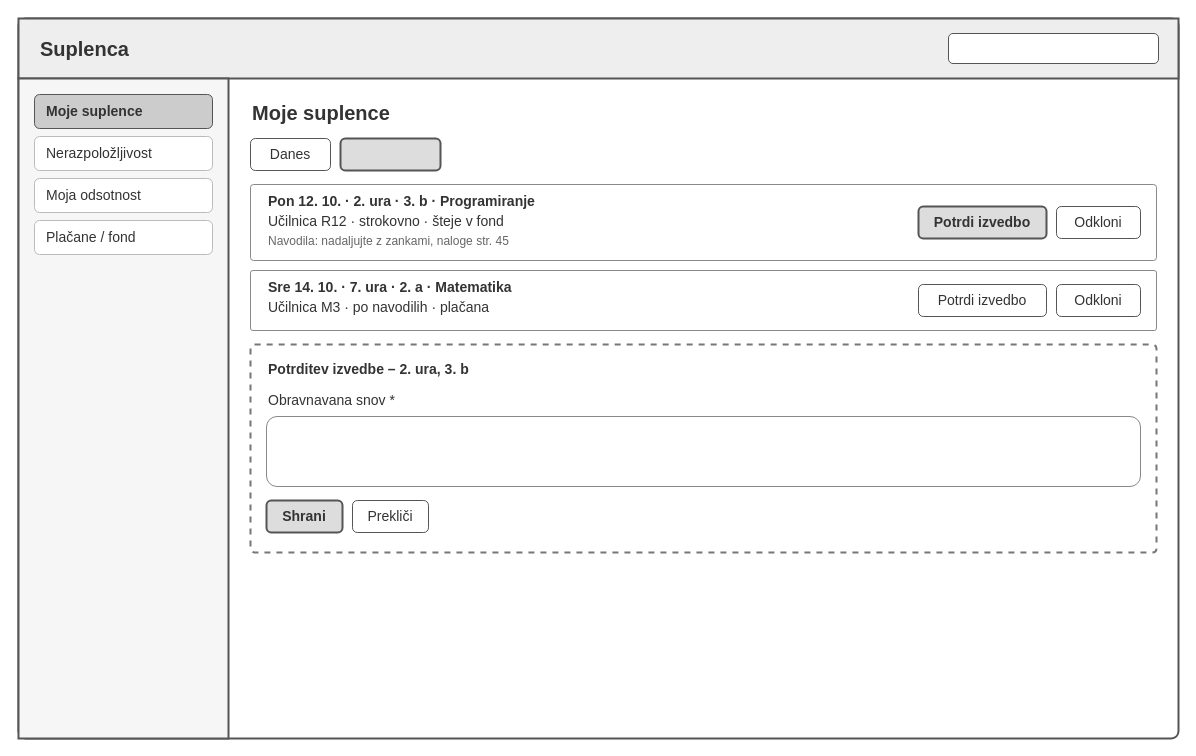
This 1196x756 diagram has some shape labels left out. The centre of each missing label's shape, as x and y in pixels:
"Ta teden" belongs at point 390,154.
"Učitelj: Horvat ▾ | Odjava" belongs at point 1053,48.
"Zanke for in while, rešene naloge 1–4" belongs at point 703,451.
